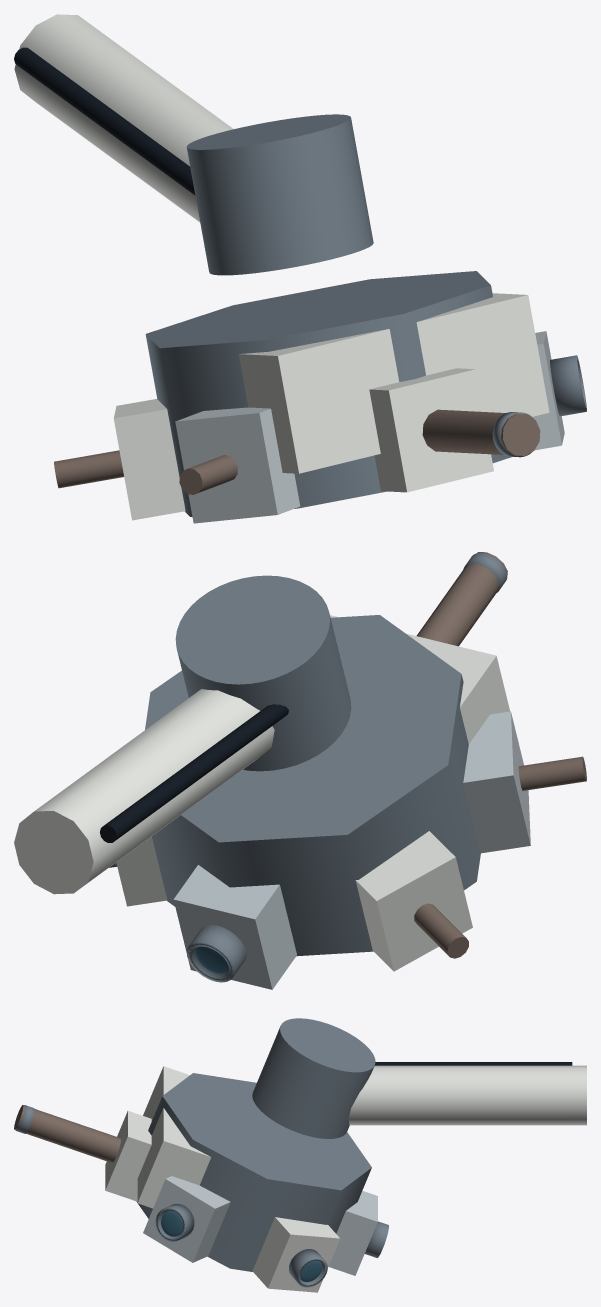
File: perseverance_arm.shoulder_azimuth.shoulder_elevation.elbow.forearm.glb
The picture shows the model from 3 angles, top to bottom: view 1: azimuth 30°, elevation 25°; view 2: azimuth 150°, elevation 25°; view 3: azimuth 270°, elevation 25°; orthographic projection. The views are drawn at different scales.
Visible parts, largest first — view 1: perseverance_arm.shoulder_azimuth.shoulder_elevation.elbow.f (×3), perseverance_turret.mesh_Pale_thermal_blanket, perseverance_turret.mesh_Machined_steel, perseverance_turret.contact_sensor.mesh_Satin_aluminum, perseverance_turret.drill.mesh_Pale_thermal_blanket, perseverance_turret.gdrt.mesh_Pale_thermal_blanket, perseverance_turret.drill.mesh_Heat-stained_alloy, perseverance_turret.gdrt.mesh_Heat-stained_alloy, perseverance_turret.pixl.aperture.mesh_Machined_steel, perseverance_turret.pixl.mesh_Satin_aluminum, perseverance_turret.contact_sensor.mesh_Heat-stained_alloy; view 2: perseverance_turret.mesh_Machined_steel, perseverance_arm.shoulder_azimuth.shoulder_elevation.elbow.f (×3), perseverance_turret.gdrt.mesh_Pale_thermal_blanket, perseverance_turret.watson.mesh_Satin_aluminum, perseverance_turret.contact_sensor.mesh_Satin_aluminum, perseverance_turret.mesh_Pale_thermal_blanket, perseverance_turret.drill.mesh_Heat-stained_alloy, perseverance_turret.sherloc.mesh_Pale_thermal_blanket, perseverance_turret.watson.aperture.mesh_Machined_steel, perseverance_turret.contact_sensor.mesh_Heat-stained_alloy, perseverance_turret.gdrt.mesh_Heat-stained_alloy, perseverance_turret.watson.aperture.lens.mesh_Coated_optical (+1 smaller); view 3: perseverance_arm.shoulder_azimuth.shoulder_elevation.elbow.f (×3), perseverance_turret.mesh_Machined_steel, perseverance_turret.mesh_Pale_thermal_blanket, perseverance_turret.sherloc.mesh_Pale_thermal_blanket, perseverance_turret.pixl.mesh_Satin_aluminum, perseverance_turret.drill.mesh_Pale_thermal_blanket, perseverance_turret.drill.mesh_Heat-stained_alloy, perseverance_turret.watson.mesh_Satin_aluminum, perseverance_turret.sherloc.aperture.mesh_Machined_steel, perseverance_turret.pixl.aperture.mesh_Machined_steel, perseverance_turret.watson.aperture.mesh_Machined_steel, perseverance_turret.pixl.aperture.lens.mesh_Coated_optical_g.
Part boxes in pixels (bbox=[...]): perseverance_arm.shoulder_azimuth.shoulder_elevation.elbow.f (×3): bbox=[14, 14, 373, 275]; perseverance_turret.mesh_Pale_thermal_blanket: bbox=[239, 293, 549, 473]; perseverance_turret.mesh_Machined_steel: bbox=[145, 271, 511, 516]; perseverance_turret.contact_sensor.mesh_Satin_aluminum: bbox=[175, 407, 300, 523]; perseverance_turret.drill.mesh_Pale_thermal_blanket: bbox=[369, 368, 493, 492]; perseverance_turret.gdrt.mesh_Pale_thermal_blanket: bbox=[113, 399, 185, 520]; perseverance_turret.drill.mesh_Heat-stained_alloy: bbox=[422, 409, 540, 455]; perseverance_turret.gdrt.mesh_Heat-stained_alloy: bbox=[54, 450, 123, 488]; perseverance_turret.pixl.aperture.mesh_Machined_steel: bbox=[550, 355, 586, 416]; perseverance_turret.pixl.mesh_Satin_aluminum: bbox=[532, 331, 564, 450]; perseverance_turret.contact_sensor.mesh_Heat-stained_alloy: bbox=[179, 455, 237, 494]; perseverance_turret.mesh_Machined_steel: bbox=[145, 615, 480, 956]; perseverance_arm.shoulder_azimuth.shoulder_elevation.elbow.f (×3): bbox=[14, 575, 351, 894]; perseverance_turret.gdrt.mesh_Pale_thermal_blanket: bbox=[355, 831, 472, 971]; perseverance_turret.watson.mesh_Satin_aluminum: bbox=[173, 865, 296, 989]; perseverance_turret.contact_sensor.mesh_Satin_aluminum: bbox=[463, 711, 530, 853]; perseverance_turret.mesh_Pale_thermal_blanket: bbox=[330, 615, 509, 743]; perseverance_turret.drill.mesh_Heat-stained_alloy: bbox=[416, 552, 507, 646]; perseverance_turret.sherloc.mesh_Pale_thermal_blanket: bbox=[116, 836, 167, 906]; perseverance_turret.watson.aperture.mesh_Machined_steel: bbox=[186, 925, 246, 982]; perseverance_turret.contact_sensor.mesh_Heat-stained_alloy: bbox=[518, 756, 586, 790]; perseverance_turret.gdrt.mesh_Heat-stained_alloy: bbox=[414, 903, 468, 958]; perseverance_turret.watson.aperture.lens.mesh_Coated_optical: bbox=[195, 946, 228, 973]; perseverance_arm.shoulder_azimuth.shoulder_elevation.elbow.f (×3): bbox=[252, 1018, 586, 1138]; perseverance_turret.mesh_Machined_steel: bbox=[136, 1073, 371, 1271]; perseverance_turret.mesh_Pale_thermal_blanket: bbox=[137, 1066, 211, 1208]; perseverance_turret.sherloc.mesh_Pale_thermal_blanket: bbox=[252, 1217, 339, 1292]; perseverance_turret.pixl.mesh_Satin_aluminum: bbox=[143, 1176, 230, 1262]; perseverance_turret.drill.mesh_Pale_thermal_blanket: bbox=[105, 1111, 151, 1201]; perseverance_turret.drill.mesh_Heat-stained_alloy: bbox=[14, 1105, 121, 1162]; perseverance_turret.watson.mesh_Satin_aluminum: bbox=[328, 1191, 377, 1275]; perseverance_turret.sherloc.aperture.mesh_Machined_steel: bbox=[289, 1249, 327, 1287]; perseverance_turret.pixl.aperture.mesh_Machined_steel: bbox=[155, 1203, 194, 1241]; perseverance_turret.watson.aperture.mesh_Machined_steel: bbox=[364, 1221, 388, 1257]; perseverance_turret.pixl.aperture.lens.mesh_Coated_optical_g: bbox=[161, 1211, 182, 1236].
Bounding box in the file's own units: 0.6024 × 0.5258 × 1.17.
